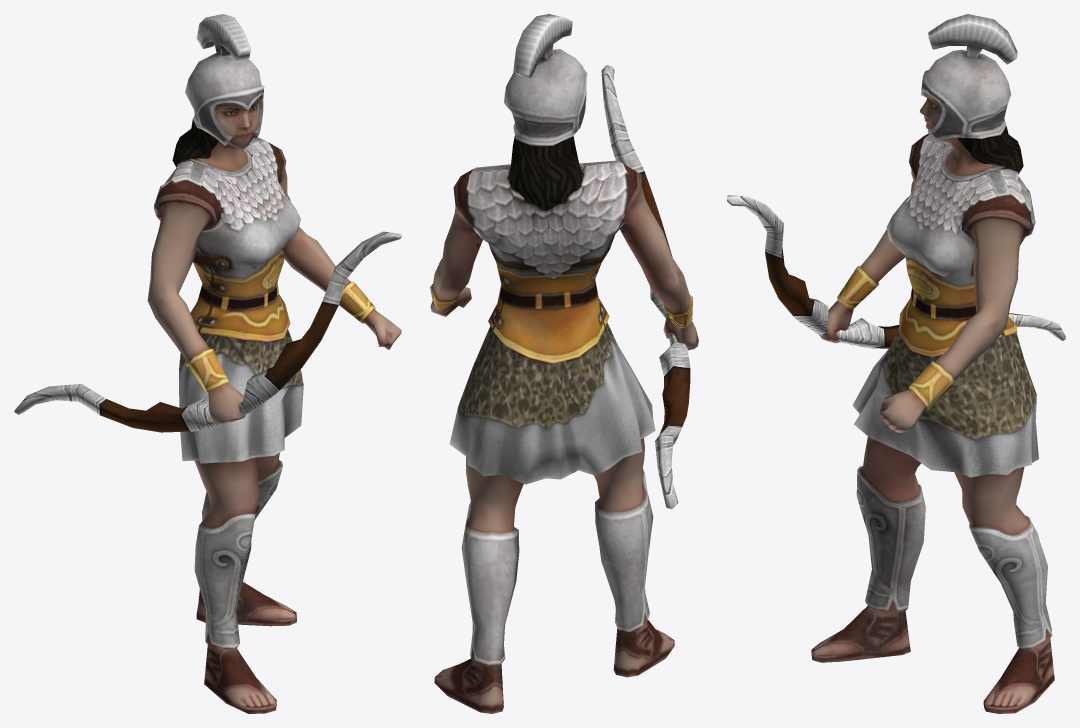
The model's file is 96-hippolyta.glb.
The picture shows the model from 3 angles, left to right: view 1: azimuth 30°, elevation 25°; view 2: azimuth 150°, elevation 25°; view 3: azimuth 270°, elevation 25°; orthographic projection. The views are drawn at different scales.
Bounding box in the file's own units: 1.19 × 2.33 × 1.09.
2 materials, 2 textured.
